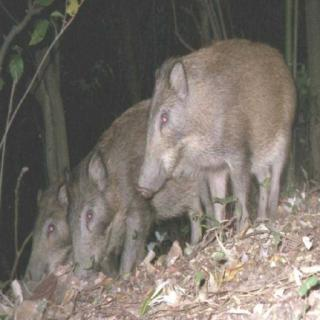Pig: (129, 26, 320, 241), (29, 120, 238, 284), (0, 151, 82, 294)
